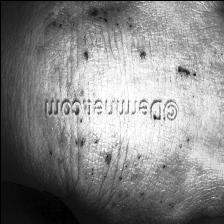Non-Cancerous Skin Condition: (41, 120, 171, 195), (42, 5, 150, 66), (169, 57, 197, 83)
